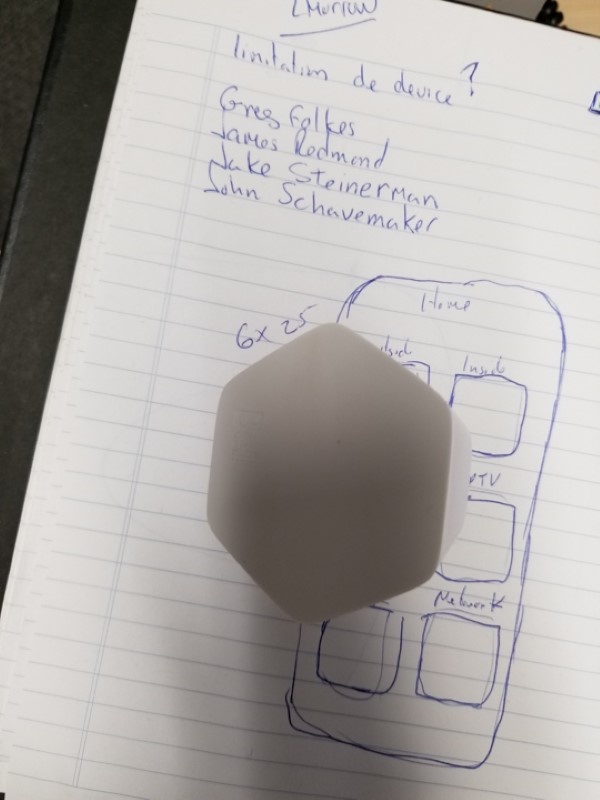pod: (198, 321, 486, 661)
